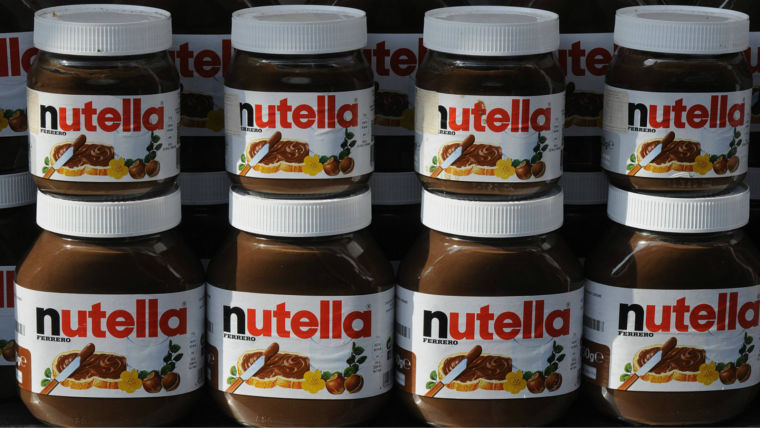nutella: (207, 196, 397, 427), (14, 200, 204, 428), (397, 200, 585, 428), (586, 195, 760, 428), (26, 3, 182, 203), (411, 4, 564, 202), (223, 5, 376, 198), (600, 2, 753, 195)
